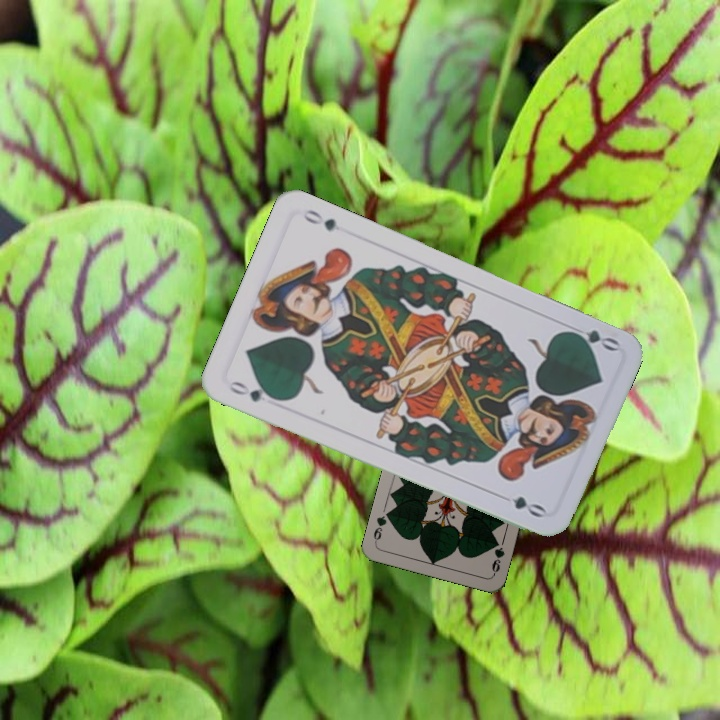G9: (487, 535, 507, 577)
GO: (562, 320, 621, 354), (225, 377, 282, 405)
